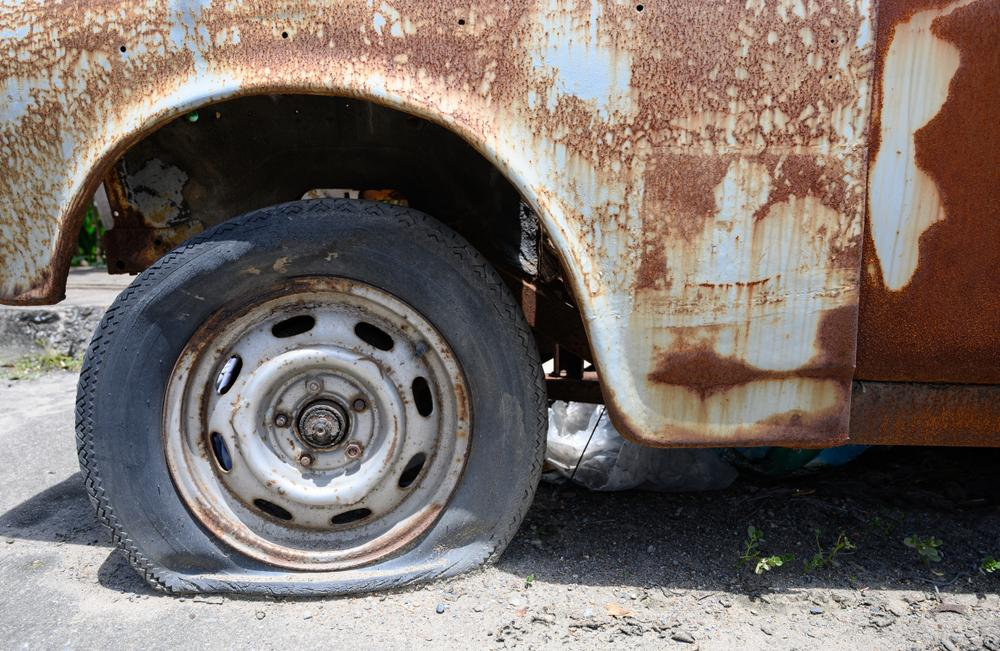tire flat: (72, 200, 549, 595)
